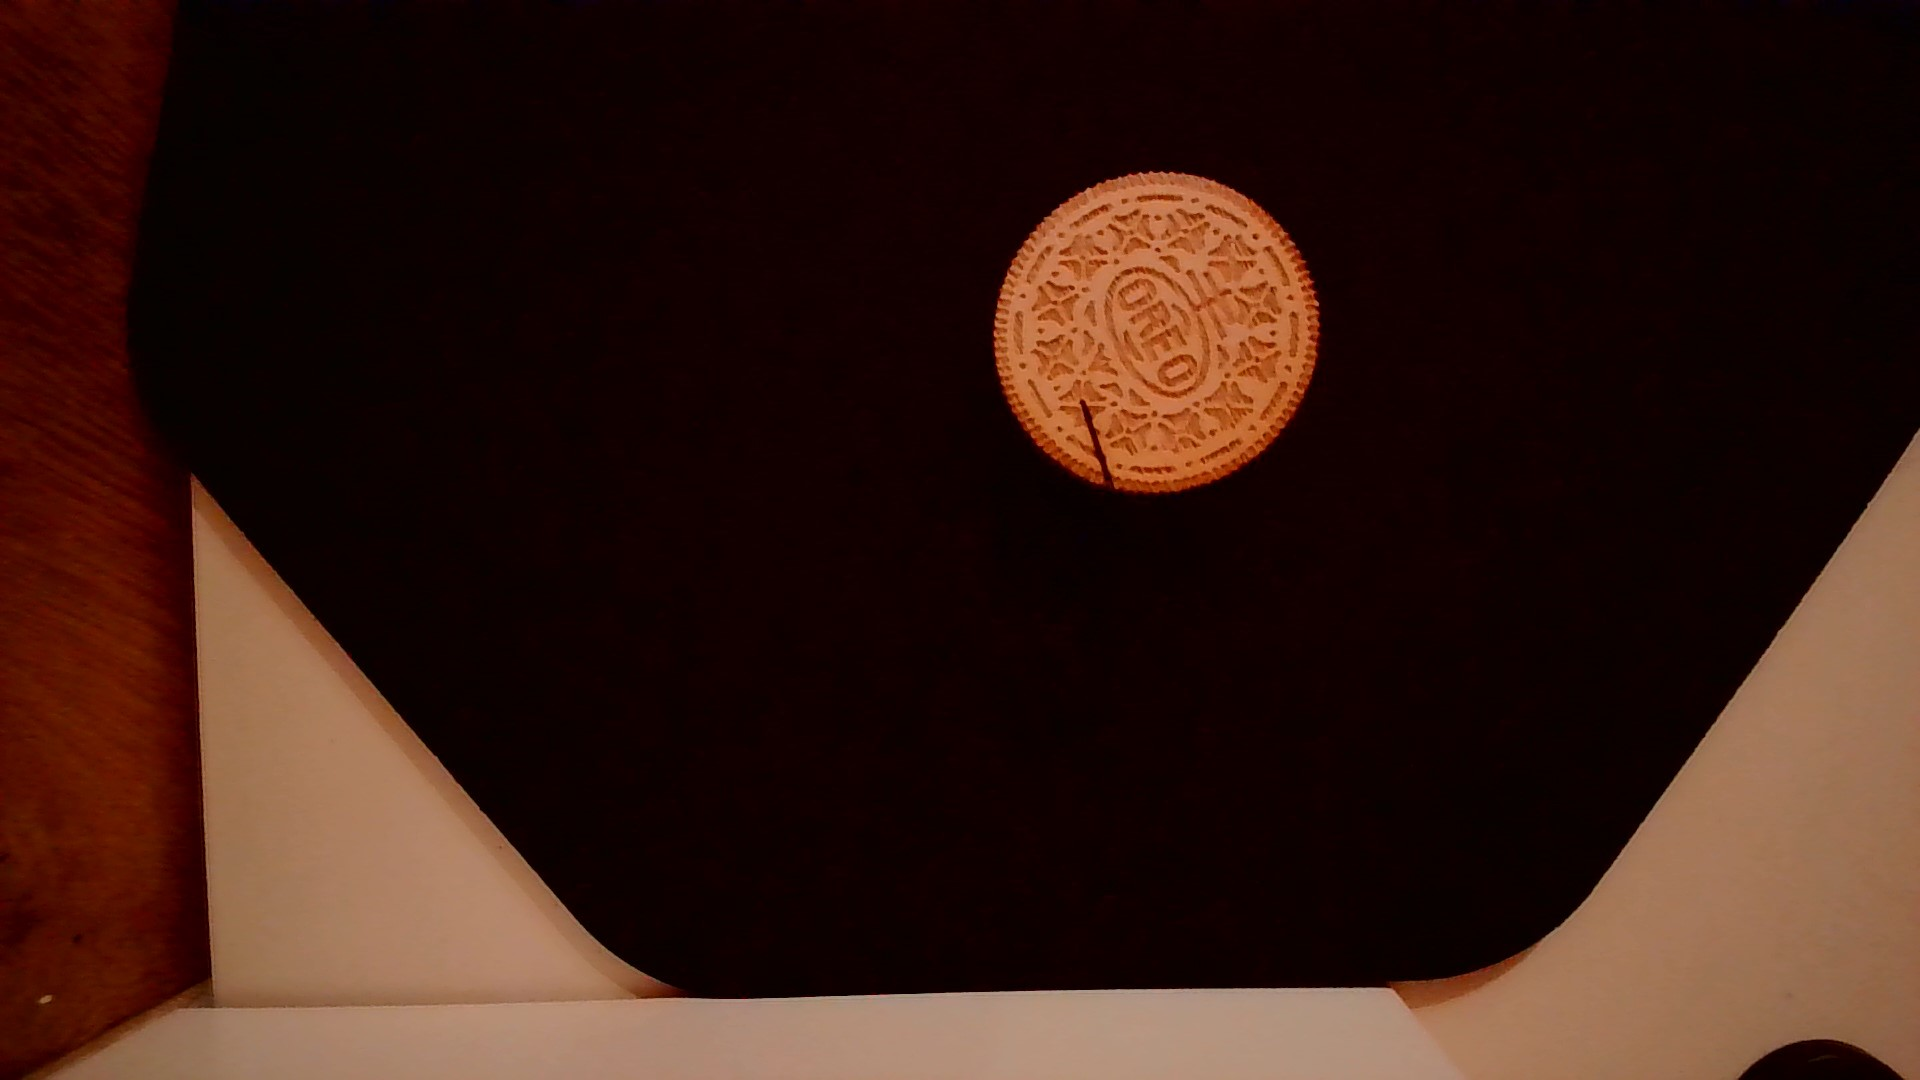Fissure: (1071, 392, 1142, 495)
Oréo: (982, 165, 1327, 498)
